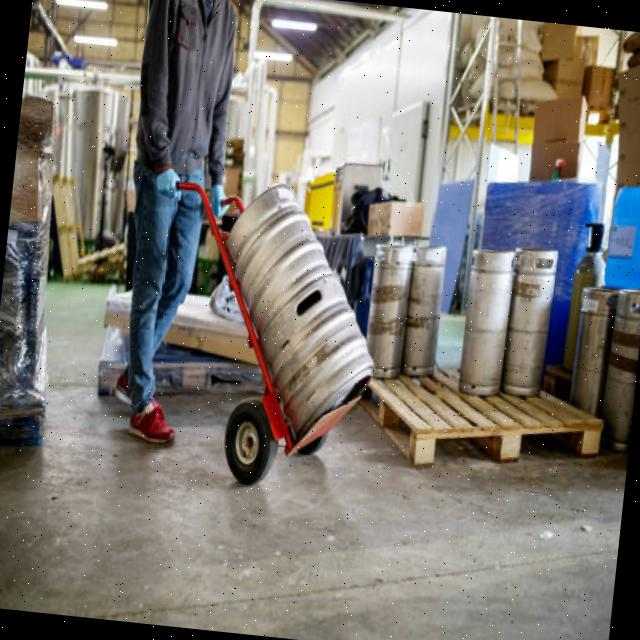Wooden-Pallets: (358, 370, 605, 472)
